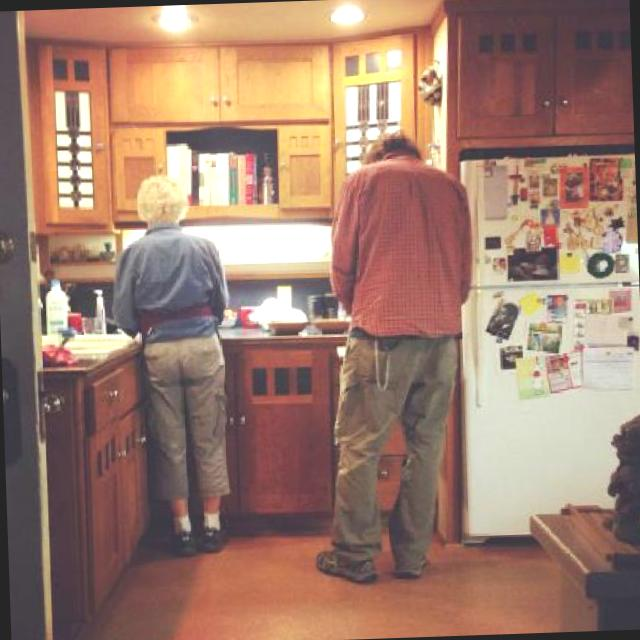Person: (294, 122, 482, 585), (98, 164, 240, 562)
